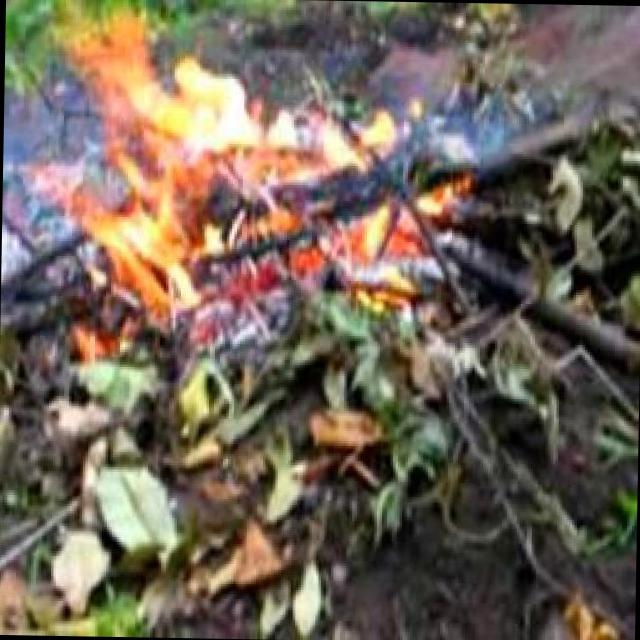Fire: (38, 20, 462, 306)
